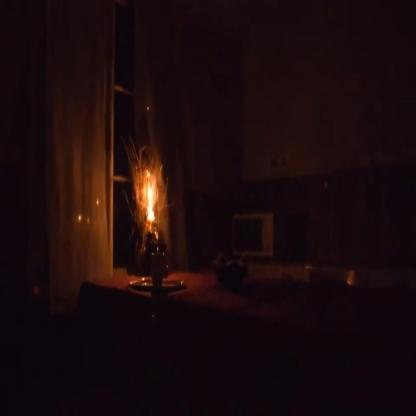fire: (138, 167, 165, 232)
